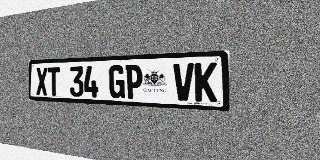3: (70, 66, 83, 97)
4: (84, 66, 98, 97)
G: (109, 65, 125, 98)
K: (195, 62, 217, 102)
P: (125, 64, 142, 99)
T: (48, 67, 60, 96)
V: (173, 63, 194, 101)
X: (36, 67, 48, 95)
